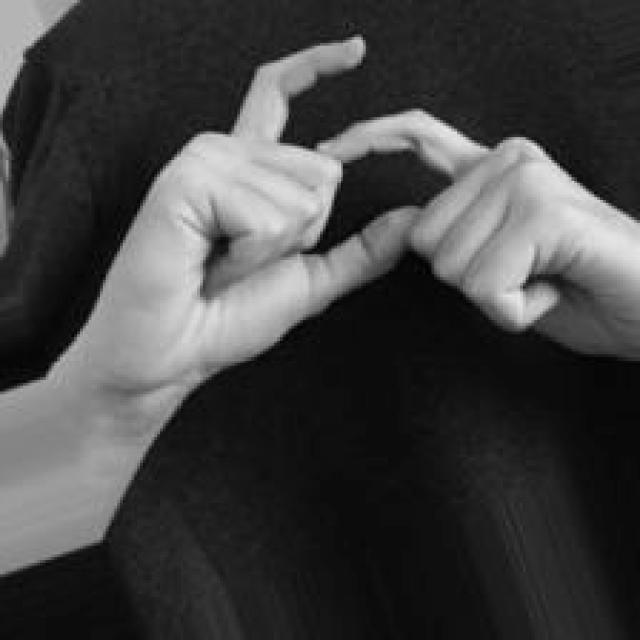G: (80, 34, 640, 394)
